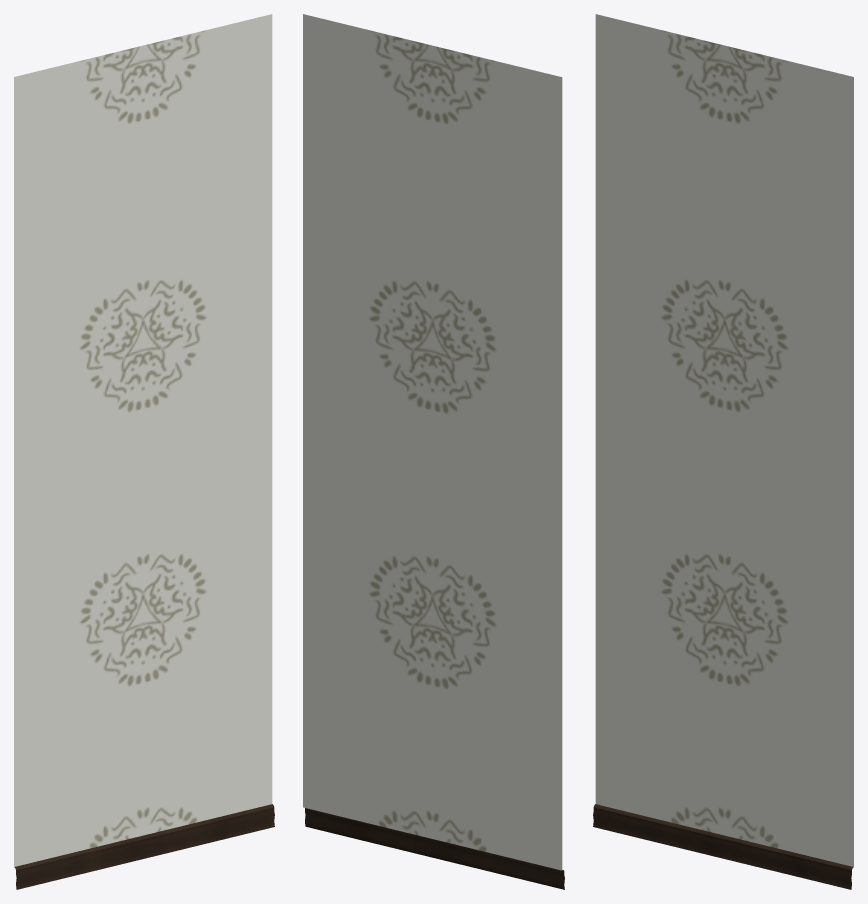
The model's file is Wall-test.fbx.
3 views of the same model, side by side, from view 1: azimuth 30°, elevation 25°; view 2: azimuth 150°, elevation 25°; view 3: azimuth 330°, elevation 25° (orthographic).
Parts seen in each view (by area): view 1: pCube60; view 2: pCube60; view 3: pCube60.
Boxes of the visible parts, box(x1,y1,x2,y2) form: pCube60: box(14, 14, 274, 889); pCube60: box(303, 14, 564, 889); pCube60: box(593, 14, 853, 889).
Size of the model in its own units: 1 by 3 by 0.0169.
